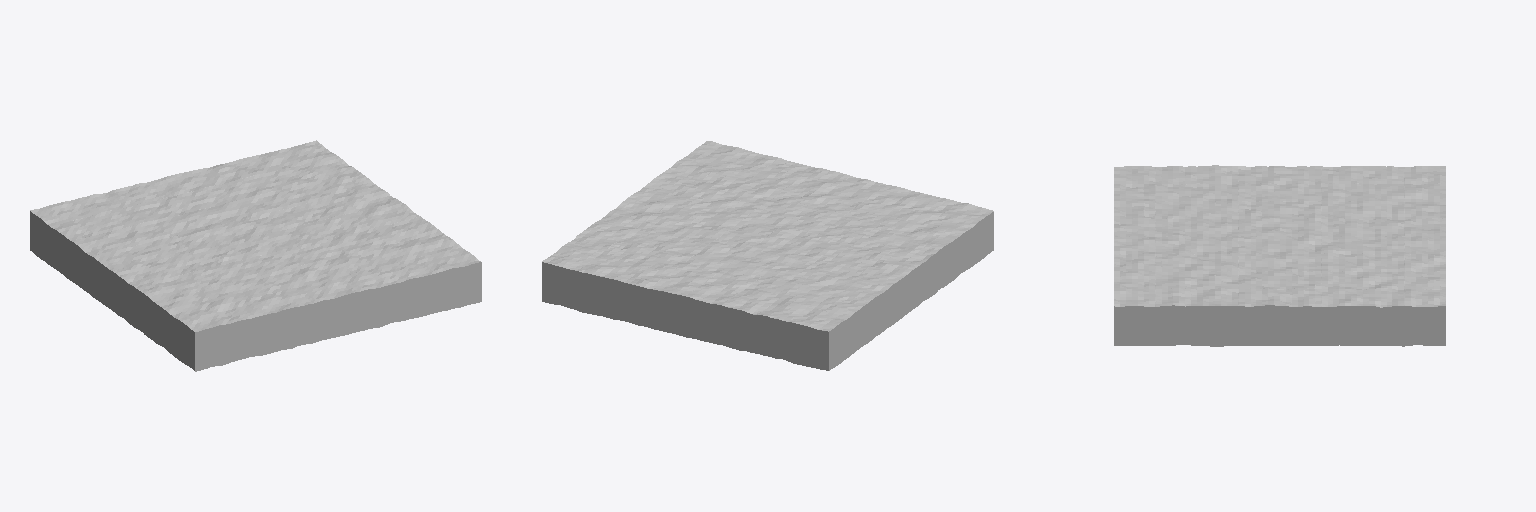
Rendered from 2nd half.obj.
3 views of the same model, side by side, from view 1: azimuth 30°, elevation 25°; view 2: azimuth 150°, elevation 25°; view 3: azimuth 270°, elevation 25° (orthographic).
Visible parts, largest first — view 1: Plane.001; view 2: Plane.001; view 3: Plane.001.
Part boxes in pixels (x1,y1,x2,y2): Plane.001: (30,140,481,371); Plane.001: (542,141,993,370); Plane.001: (1114,165,1445,346).
Size of the model in its own units: 34.59 by 4.84 by 34.59.